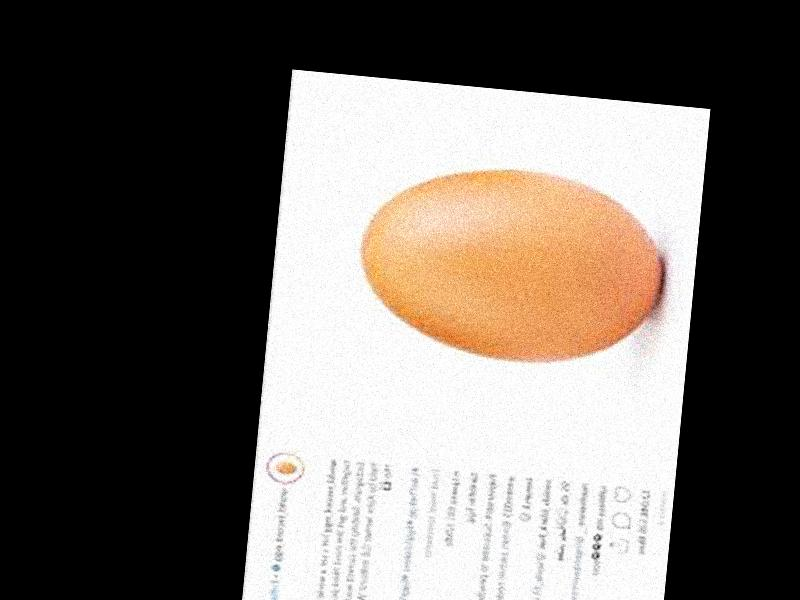Eggs: (352, 154, 668, 373)
